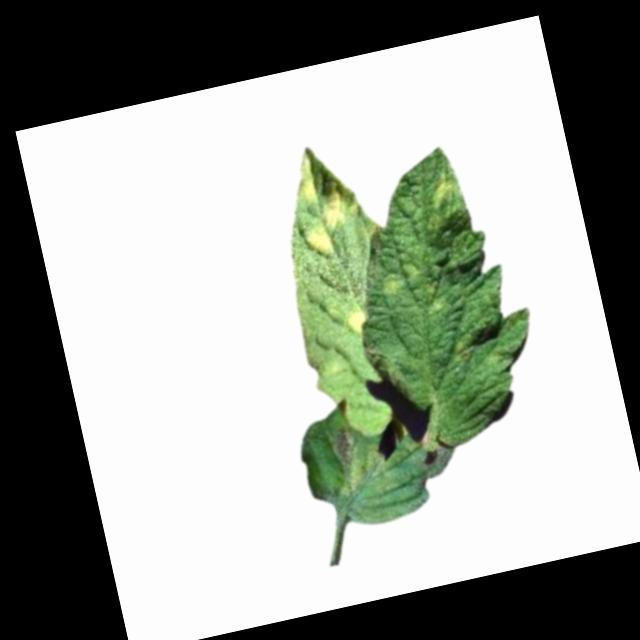Leaf_Mold: (283, 140, 356, 263), (326, 422, 384, 499), (429, 179, 461, 209), (346, 307, 373, 337), (383, 275, 408, 296)
